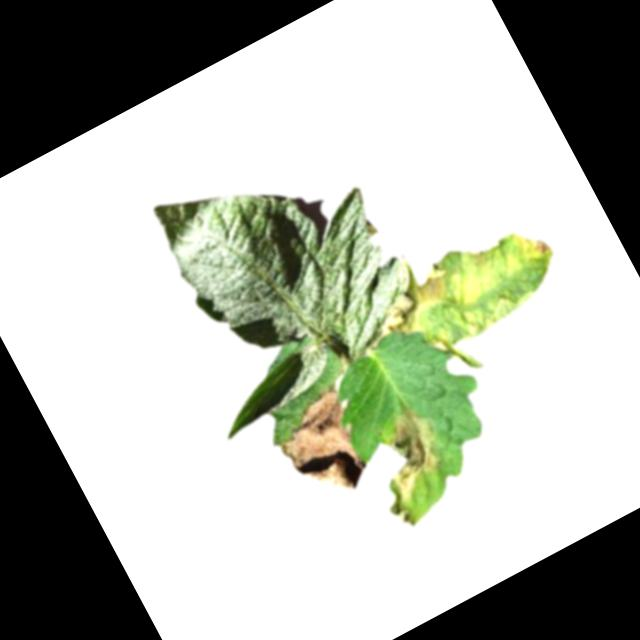Late_blight: (348, 397, 475, 534), (264, 380, 385, 511), (366, 260, 461, 344), (511, 219, 557, 268)
